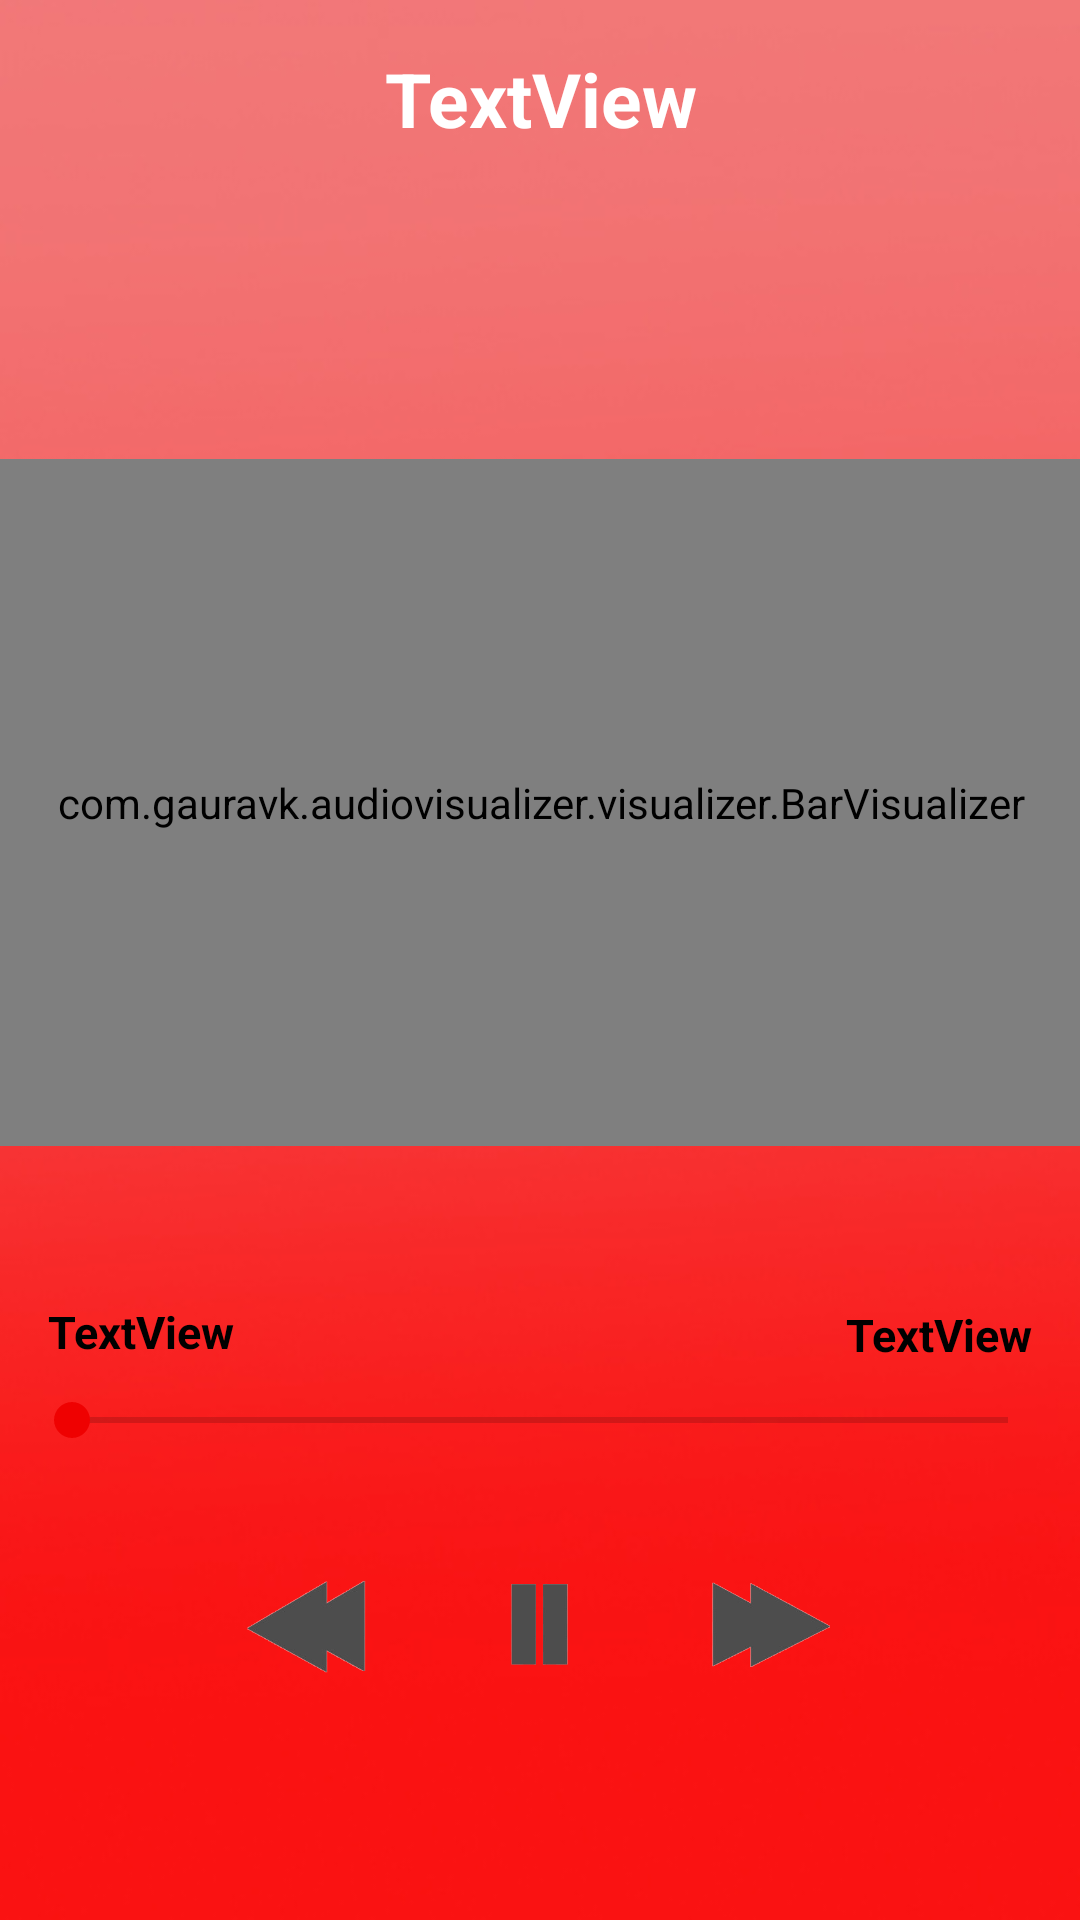

Icons on this 1080px×1920px Android screen, each with its box as detection(x1, y1, x2, y2):
forward: detection(712, 1583, 830, 1667)
